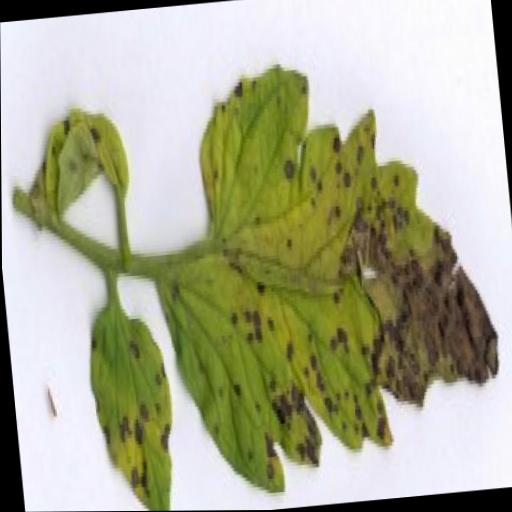Septoria: (138, 39, 512, 505), (80, 293, 184, 512), (14, 98, 138, 238)
